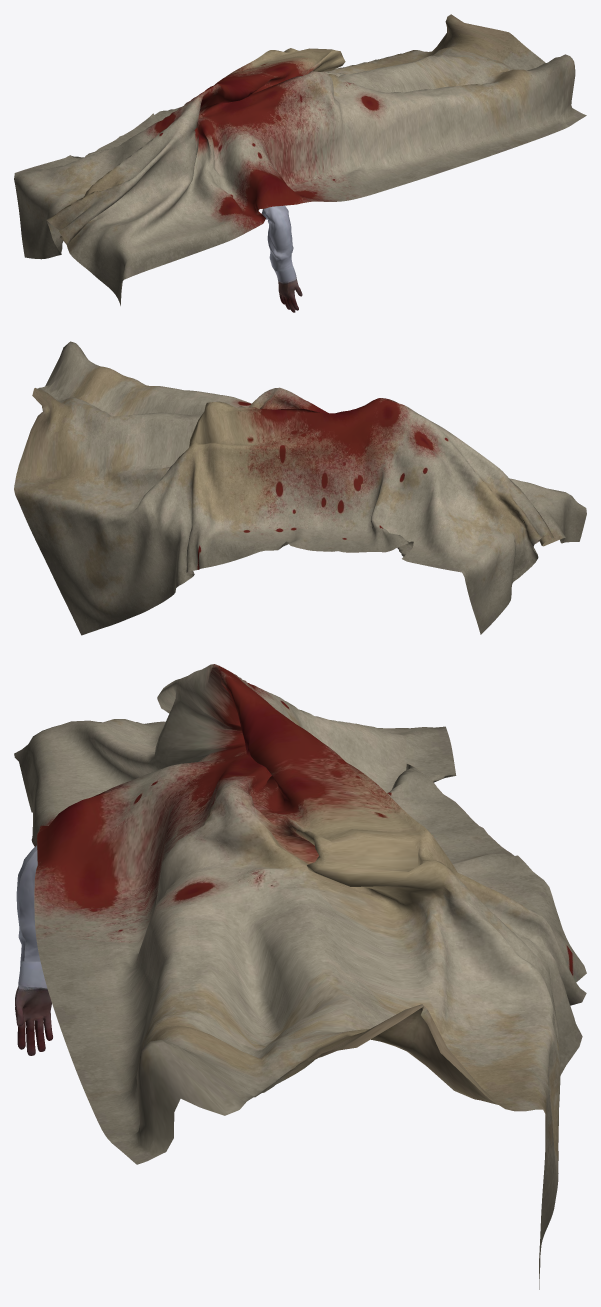
Rendered from corpse_sheet.glb.
The picture shows the model from 3 angles, top to bottom: view 1: azimuth 30°, elevation 25°; view 2: azimuth 150°, elevation 25°; view 3: azimuth 270°, elevation 25°; orthographic projection. The views are drawn at different scales.
Visible parts, largest first — view 1: CorpseSheet, DeadHand; view 2: CorpseSheet; view 3: CorpseSheet, DeadHand.
Part boxes in pixels (x1,y1,x2,y2): CorpseSheet: (14,14,586,305); DeadHand: (261,205,302,312); CorpseSheet: (14,341,586,635); CorpseSheet: (14,664,586,1289); DeadHand: (15,845,52,1055).
Size of the model in its own units: 2.42 by 1.04 by 1.28.
2 materials, 2 textured.
